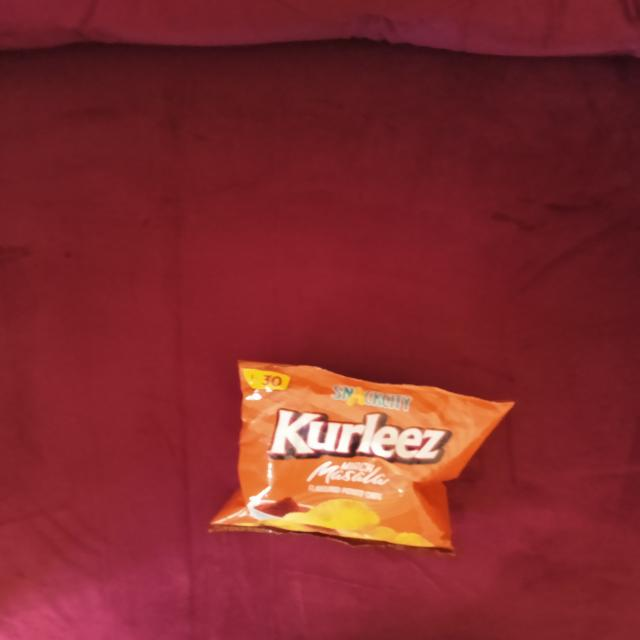Plastic: (207, 358, 513, 558)
